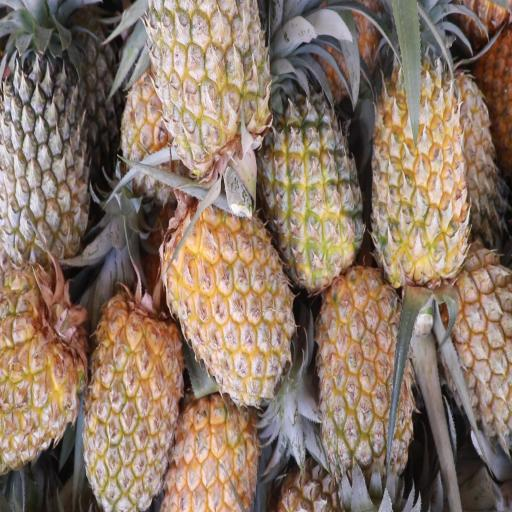------------------------------: (250, 56, 366, 301), (140, 0, 274, 185)
Pineapple - v8 v1: (157, 184, 298, 413), (364, 4, 470, 296), (312, 237, 414, 512), (78, 263, 184, 510), (0, 250, 88, 480), (435, 218, 512, 450), (155, 353, 259, 512)
